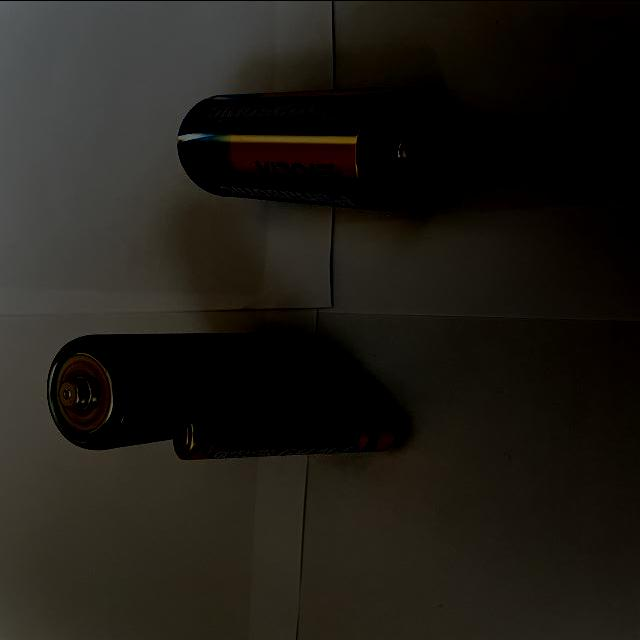AAA: (175, 405, 398, 460)
